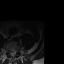CCS_normal: (11, 50, 13, 57)
LFS_normal: (16, 49, 18, 53)
LLS_normal: (14, 50, 16, 56)
RFS_normal: (7, 49, 9, 54)
RLS_normal: (9, 50, 11, 56)
